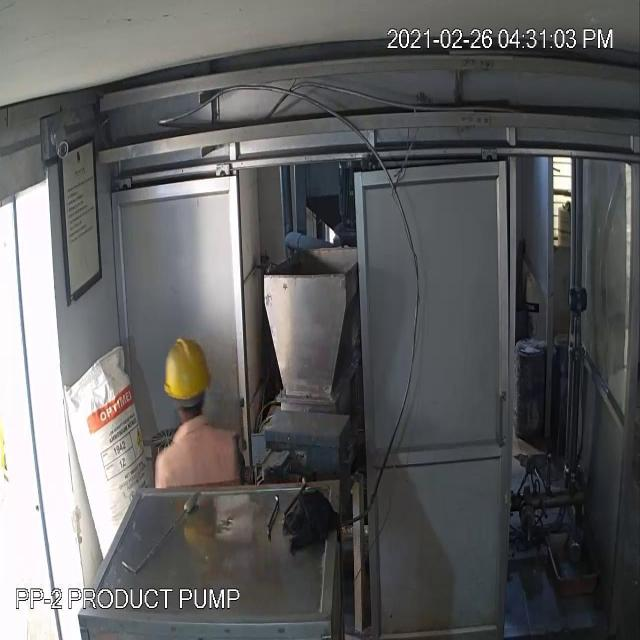helmet: (158, 328, 212, 412)
